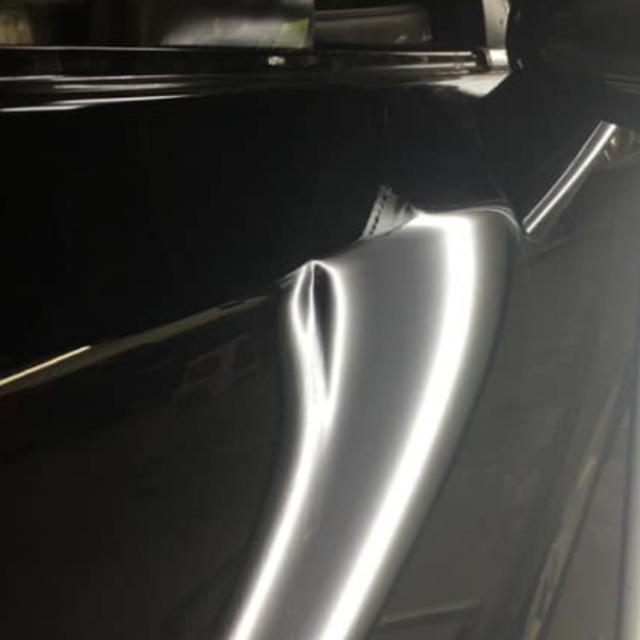dents: (289, 218, 377, 421)
